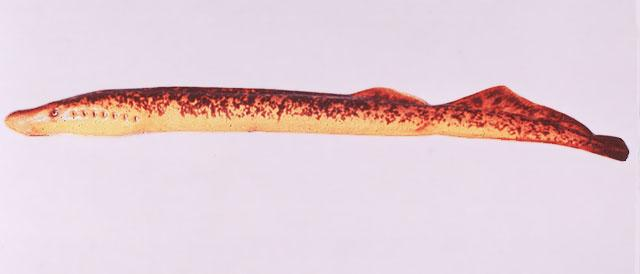Sirip Ekor: (584, 125, 636, 168)
Sirip Punggung: (343, 66, 574, 126)
